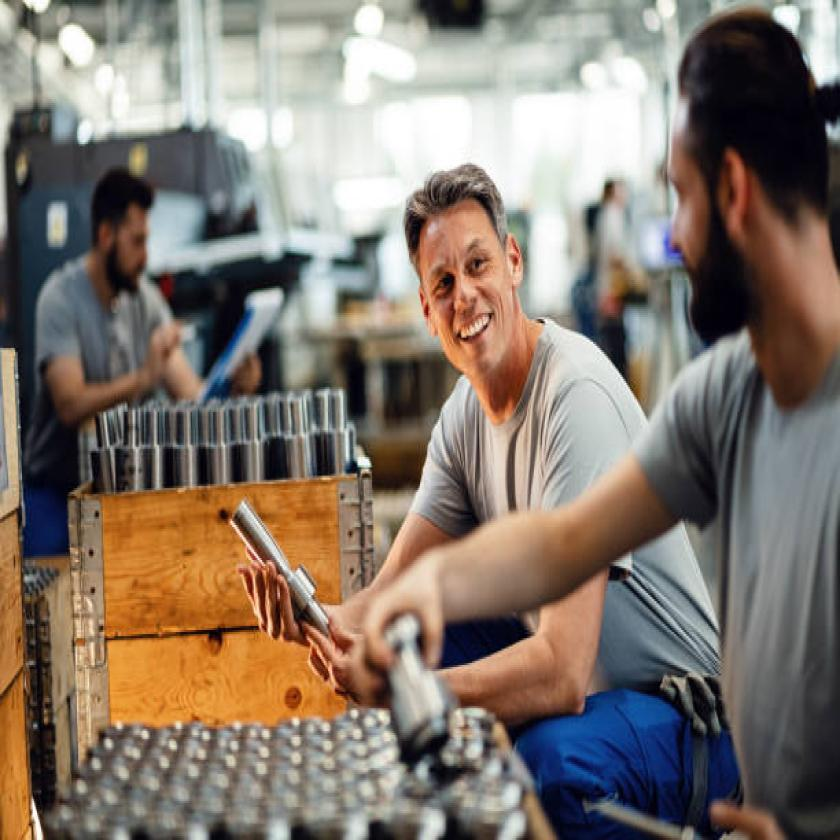Sin_casco: (662, 4, 830, 354), (388, 142, 530, 390), (89, 152, 172, 300)
